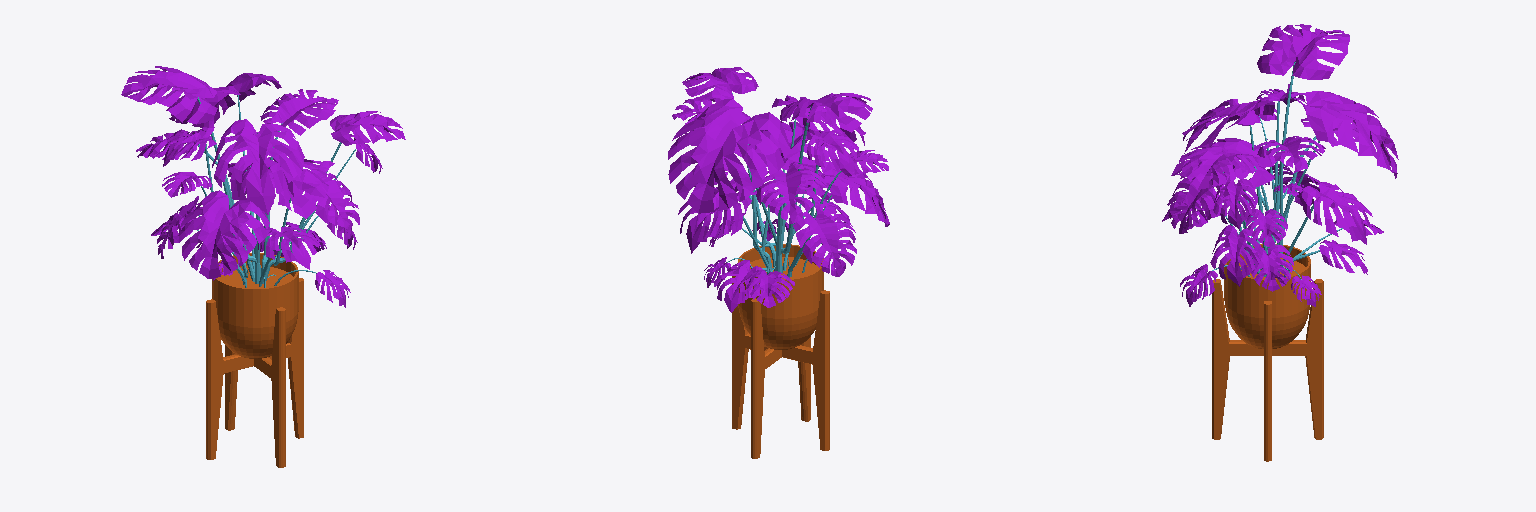
File: flowerpot.obj
3 renders of one model, left to right at view 1: azimuth 30°, elevation 25°; view 2: azimuth 150°, elevation 25°; view 3: azimuth 270°, elevation 25°, orthographic.
Parts seen in each view (by area): view 1: Leaves, Stand, Pot_LP, root_HP_1; view 2: Leaves, Stand, Pot_LP, root_HP_1; view 3: Leaves, Stand, Pot_LP, root_HP_1.
Part boxes in pixels (x1,y1,x2,y2): Leaves: (121, 66, 405, 307); Stand: (206, 278, 303, 467); Pot_LP: (212, 253, 298, 358); root_HP_1: (197, 95, 355, 287); Leaves: (668, 67, 889, 312); Stand: (732, 276, 829, 458); Pot_LP: (738, 244, 823, 349); root_HP_1: (727, 93, 841, 277); Leaves: (1162, 24, 1398, 306); Stand: (1212, 279, 1323, 461); Pot_LP: (1224, 244, 1310, 348); root_HP_1: (1212, 62, 1342, 279).
Size of the model in its own units: 1.01 by 1.58 by 0.9162.